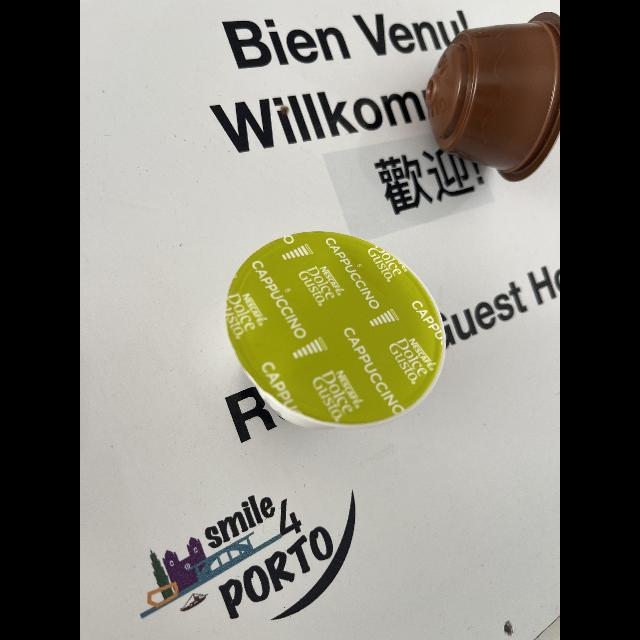intact_capsule: (218, 223, 452, 441), (414, 0, 560, 194)
